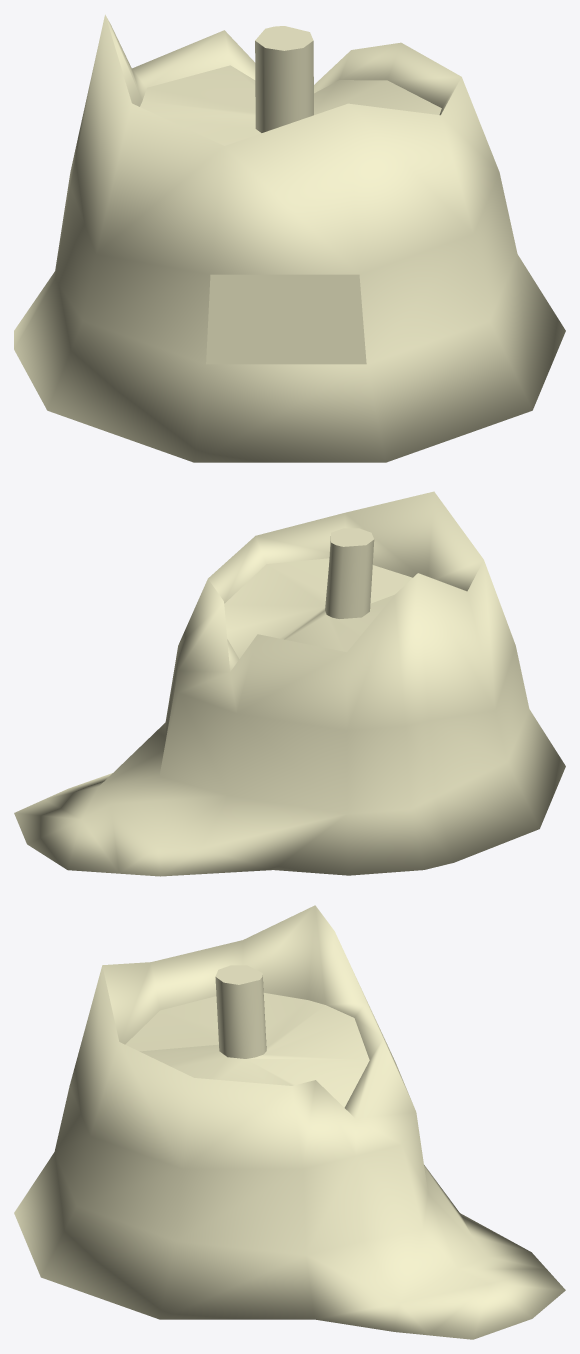
The model's file is candle medium.FBX.
3 views of the same model, one above another, from view 1: azimuth 30°, elevation 25°; view 2: azimuth 150°, elevation 25°; view 3: azimuth 270°, elevation 25° (orthographic). The views are drawn at different scales.
Parts seen in each view (by area): view 1: Cylinder001; view 2: Cylinder001; view 3: Cylinder001.
Part boxes in pixels (left/top/right/bottom): Cylinder001: left=14, top=14, right=565, bottom=462; Cylinder001: left=14, top=491, right=565, bottom=876; Cylinder001: left=14, top=905, right=565, bottom=1339.
Bounding box in the file's own units: 44.79 × 27.46 × 50.75.
